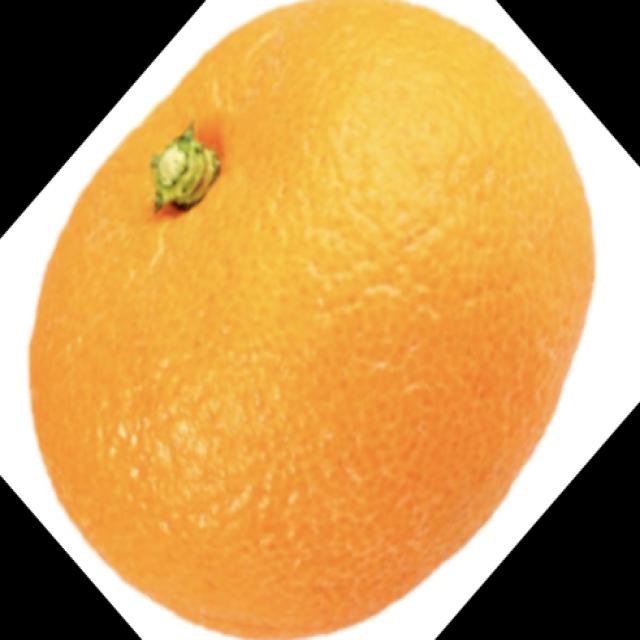orange: (28, 0, 622, 640)
